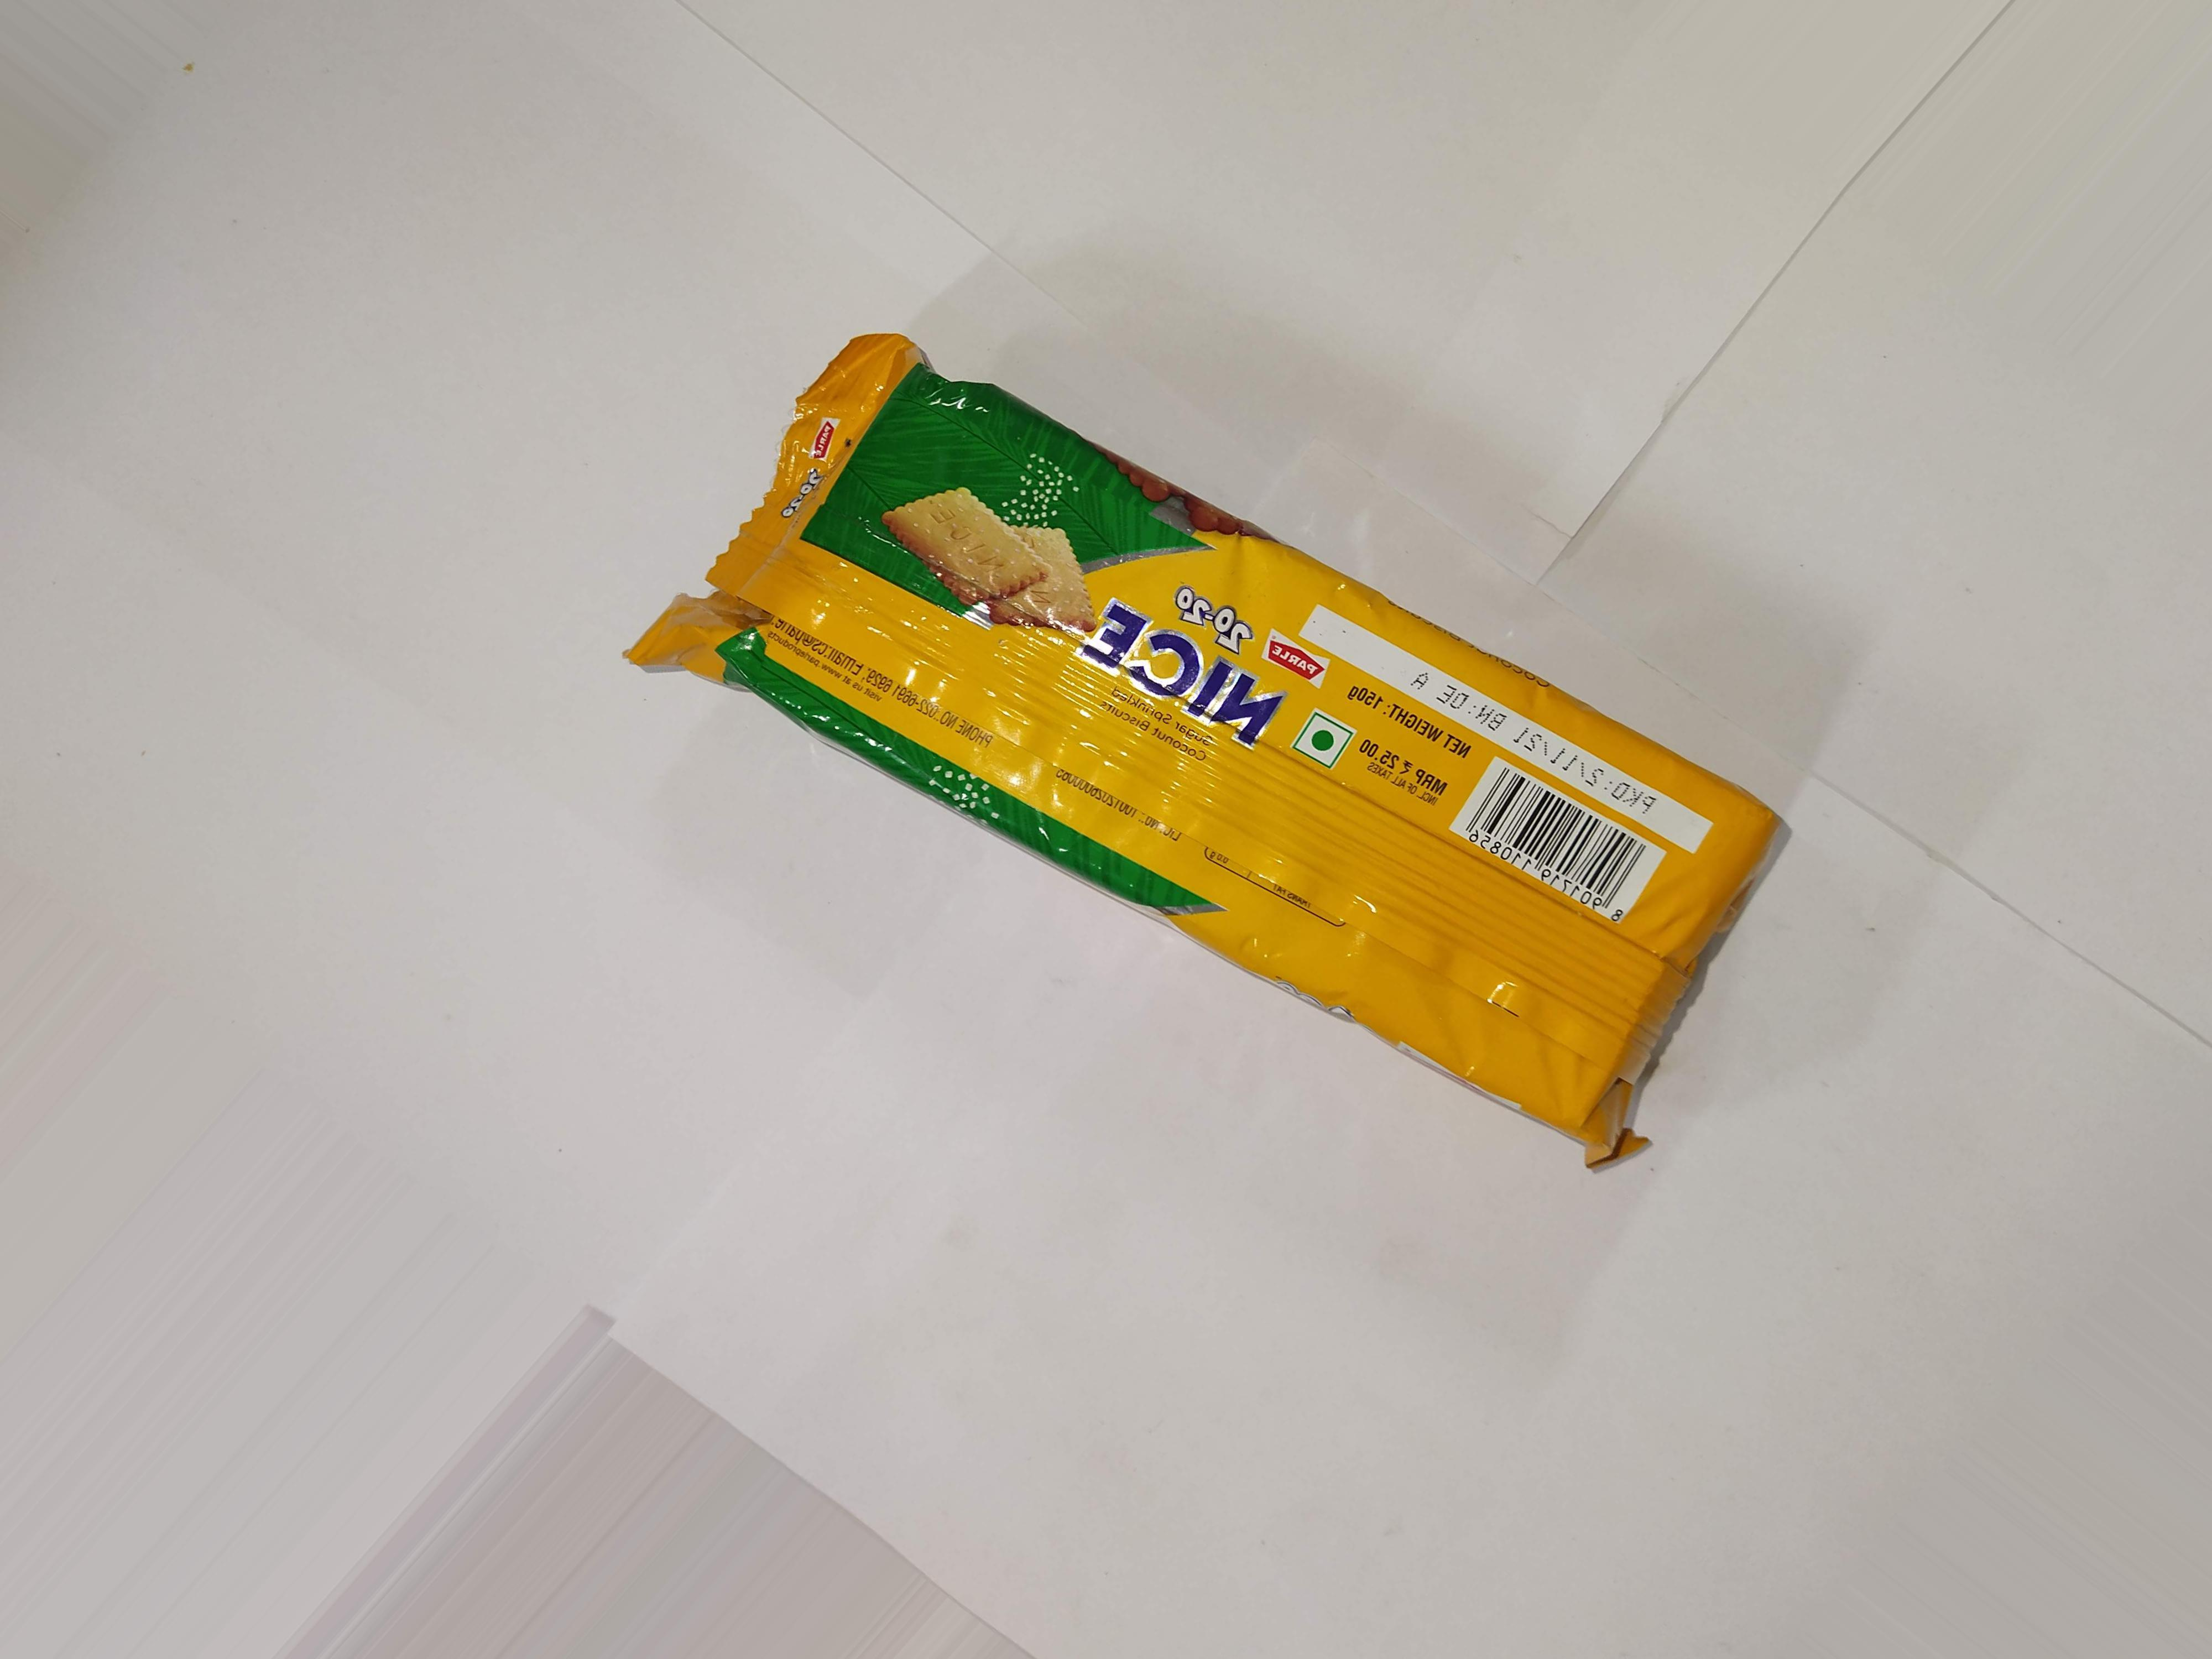Bar_code: (1430, 741, 1676, 931)
Item: (610, 305, 1831, 1223)
